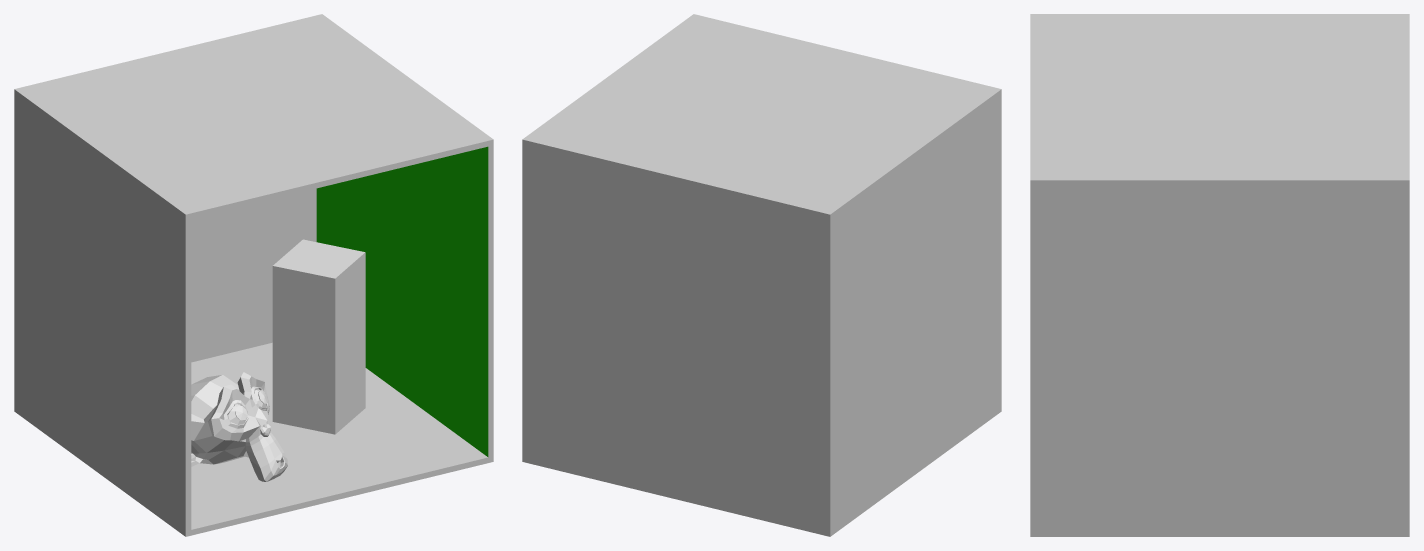
Rendered from cornelbox.glb.
3 views of the same model, side by side, from view 1: azimuth 30°, elevation 25°; view 2: azimuth 150°, elevation 25°; view 3: azimuth 270°, elevation 25° (orthographic). The views are drawn at different scales.
Parts seen in each view (by area): view 1: Cube.001, Cube.002, Cube.004, Suzanne; view 2: Cube.001; view 3: Cube.001.
Boxes of the visible parts, bbox=[...] form: Cube.001: bbox=[14, 14, 493, 536]; Cube.002: bbox=[316, 146, 488, 456]; Cube.004: bbox=[272, 239, 365, 434]; Suzanne: bbox=[191, 372, 287, 481]; Cube.001: bbox=[522, 14, 1001, 536]; Cube.001: bbox=[1030, 14, 1409, 536].
Bounding box in the file's own units: 2.07 × 2.07 × 2.
